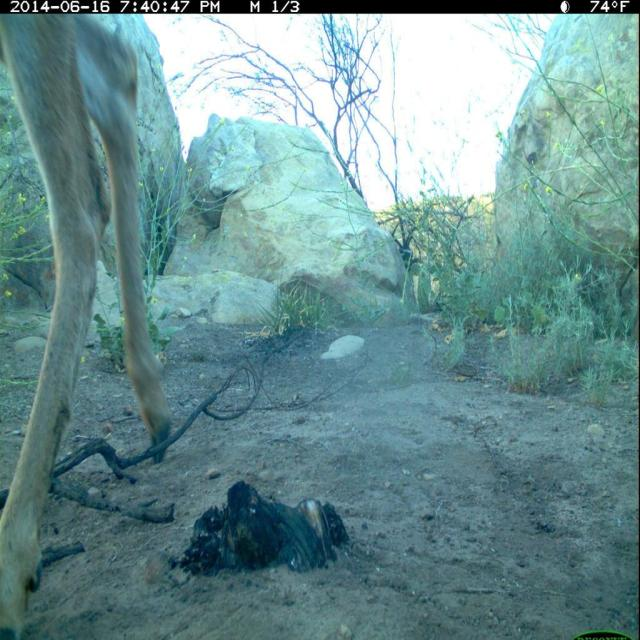deer: (2, 11, 201, 640)
